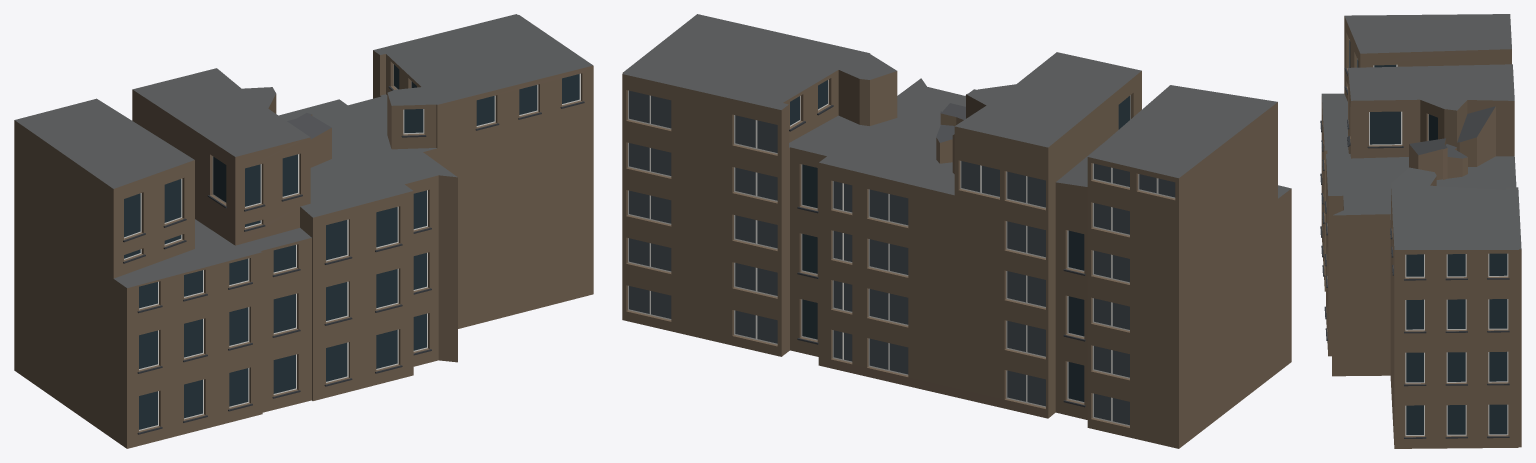
File: recipe-large-haarlemmerweg-63-081533.glb
The picture shows the model from 3 angles, left to right: view 1: azimuth 30°, elevation 25°; view 2: azimuth 150°, elevation 25°; view 3: azimuth 270°, elevation 25°; orthographic projection. The views are drawn at different scales.
Visible parts, largest first — view 1: haarlemmerweg-63-081533; view 2: haarlemmerweg-63-081533; view 3: haarlemmerweg-63-081533.
Part boxes in pixels (<box>): haarlemmerweg-63-081533: <box>14,14,593,448</box>; haarlemmerweg-63-081533: <box>622,14,1291,448</box>; haarlemmerweg-63-081533: <box>1320,14,1521,448</box>.
Size of the model in its own units: 34.18 by 15.96 by 13.34.
